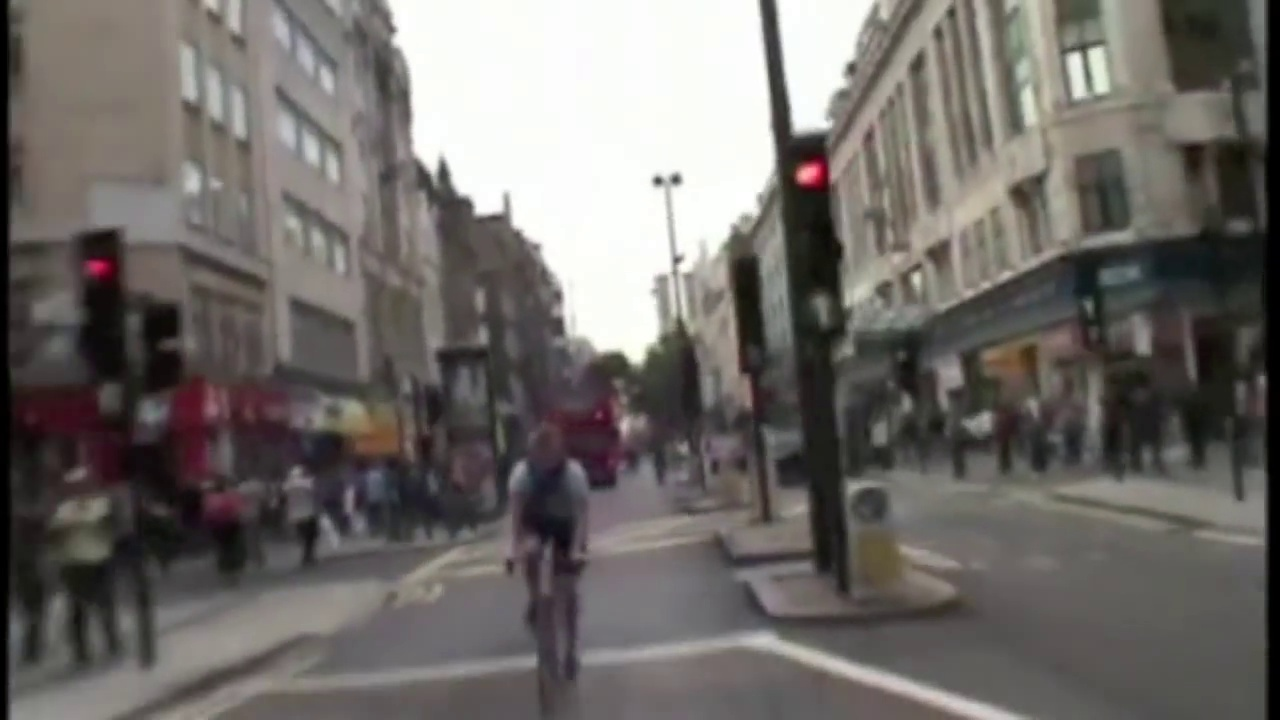cyclist_front: (502, 431, 609, 713)
